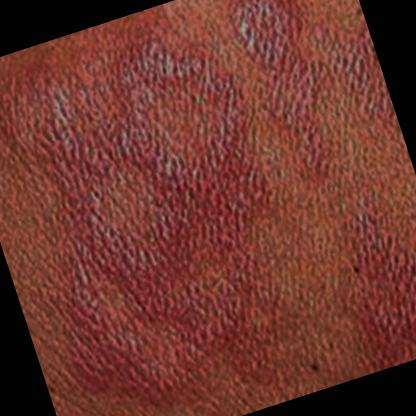Leprosy: (0, 0, 332, 416), (216, 0, 408, 194), (300, 185, 416, 379)
